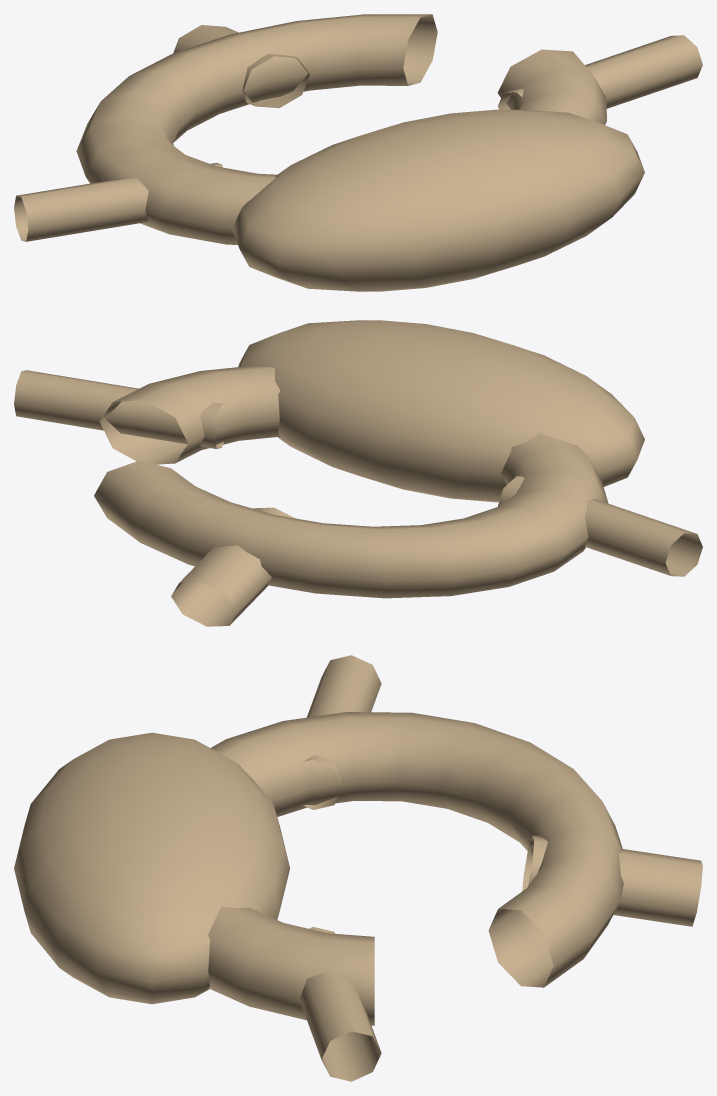
The picture shows the model from 3 angles, top to bottom: view 1: azimuth 30°, elevation 25°; view 2: azimuth 150°, elevation 25°; view 3: azimuth 270°, elevation 25°; orthographic projection. The views are drawn at different scales.
Visible parts, largest first — view 1: l2:centrum, l2:neural-arch, l2:transverse--1, l2:transverse-1, l2:spinous-process; view 2: l2:neural-arch, l2:centrum, l2:transverse-1, l2:transverse--1, l2:spinous-process; view 3: l2:neural-arch, l2:centrum, l2:spinous-process, l2:transverse-1, l2:transverse--1.
Part boxes in pixels (x1=…): l2:centrum: x1=232, y1=109, x2=644, y2=291; l2:neural-arch: x1=76, y1=14, x2=606, y2=244; l2:transverse--1: x1=14, y1=163, x2=222, y2=241; l2:transverse-1: x1=498, y1=35, x2=702, y2=109; l2:spinous-process: x1=173, y1=25, x2=309, y2=108; l2:neural-arch: x1=94, y1=366, x2=608, y2=598; l2:centrum: x1=238, y1=320, x2=644, y2=502; l2:transverse-1: x1=14, y1=370, x2=223, y2=448; l2:transverse--1: x1=498, y1=476, x2=702, y2=576; l2:spinous-process: x1=171, y1=507, x2=295, y2=626; l2:neural-arch: x1=208, y1=712, x2=623, y2=1025; l2:centrum: x1=14, y1=732, x2=289, y2=1004; l2:spinous-process: x1=522, y1=835, x2=702, y2=926; l2:transverse-1: x1=299, y1=927, x2=381, y2=1081; l2:transverse--1: x1=303, y1=655, x2=381, y2=809.
Size of the model in its own units: 0.299 by 0.0553 by 0.2275.
